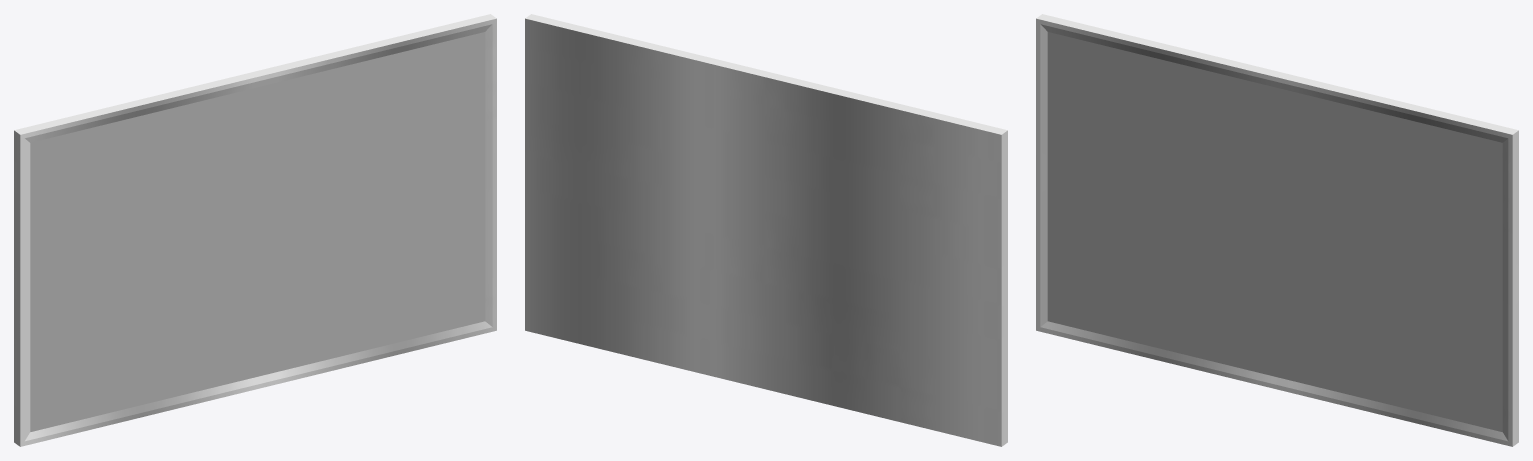
Rendered from boardtool.fbx.
3 views of the same model, side by side, from view 1: azimuth 30°, elevation 25°; view 2: azimuth 150°, elevation 25°; view 3: azimuth 330°, elevation 25° (orthographic).
Parts seen in each view (by area): view 1: Model; view 2: Model; view 3: Model.
Part boxes in pixels (<box>): Model: <box>14,14,496,446</box>; Model: <box>525,14,1007,446</box>; Model: <box>1036,14,1518,446</box>.
Size of the model in its own units: 879 by 550 by 20.
